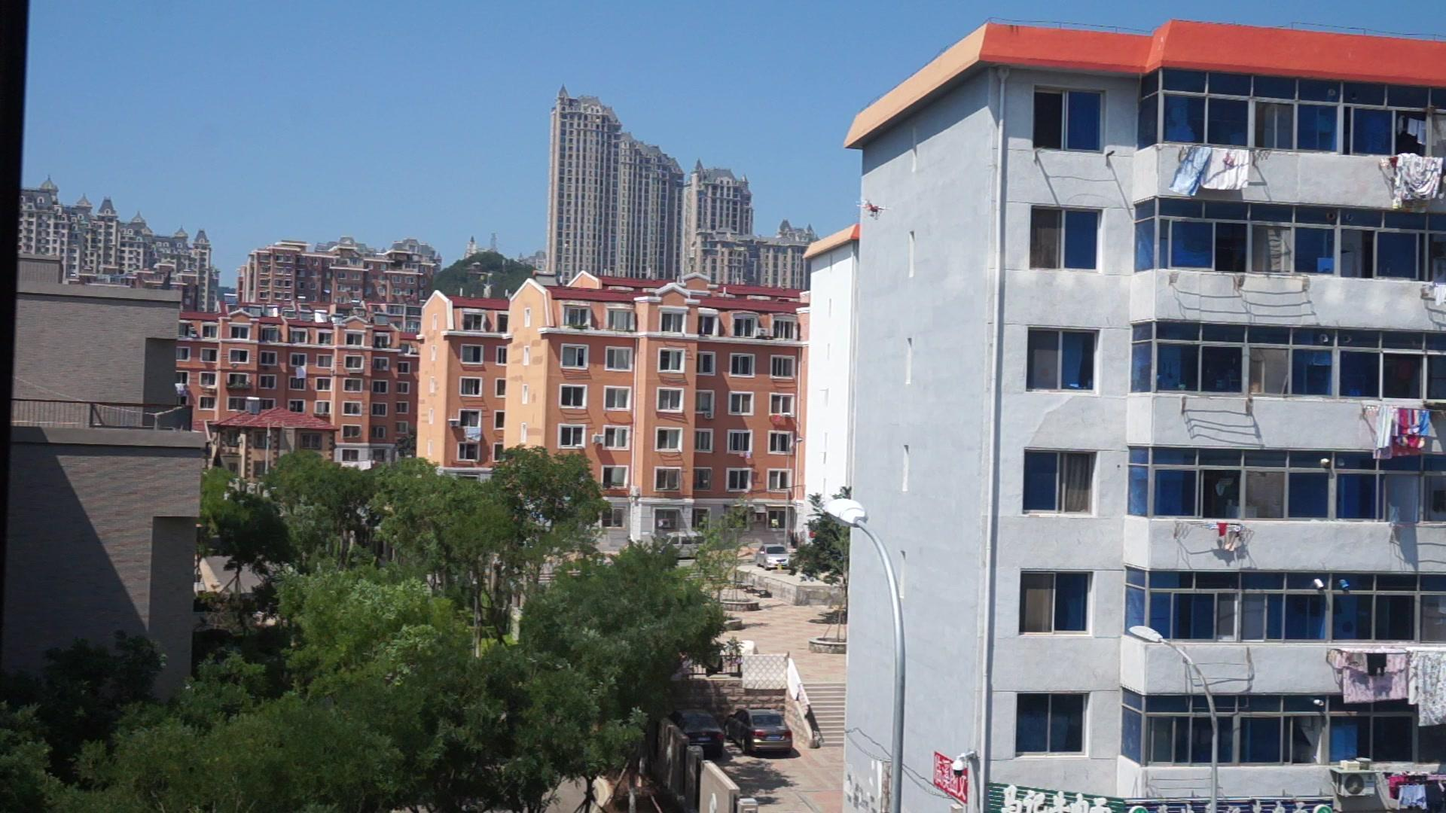UAV: (856, 199, 892, 221)
